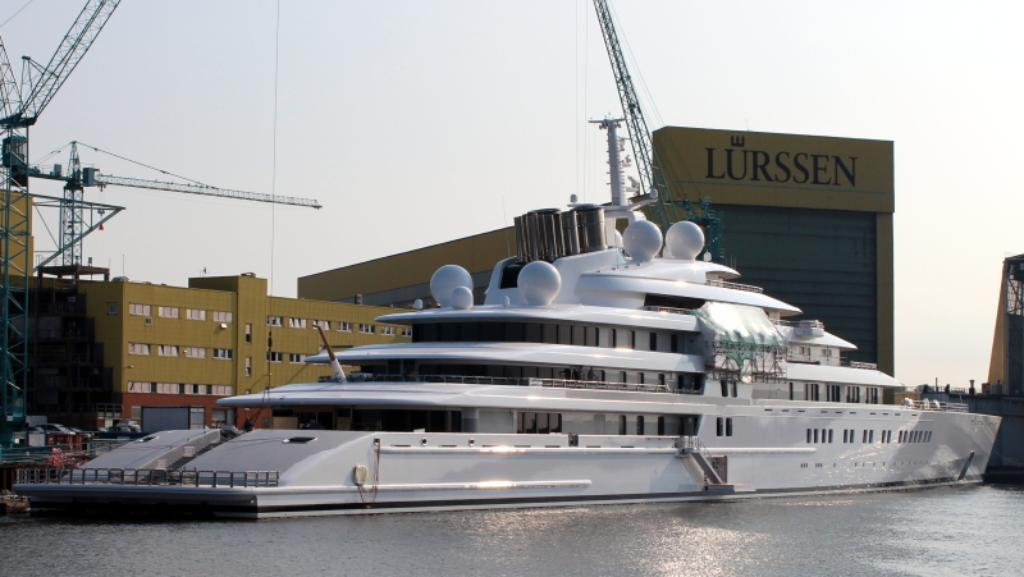PassengerShip: (12, 113, 1004, 522)
